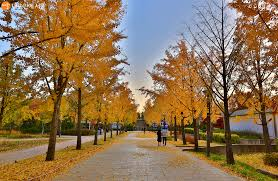tree: (194, 1, 278, 152), (23, 1, 106, 152), (144, 43, 215, 152), (63, 64, 132, 150)
